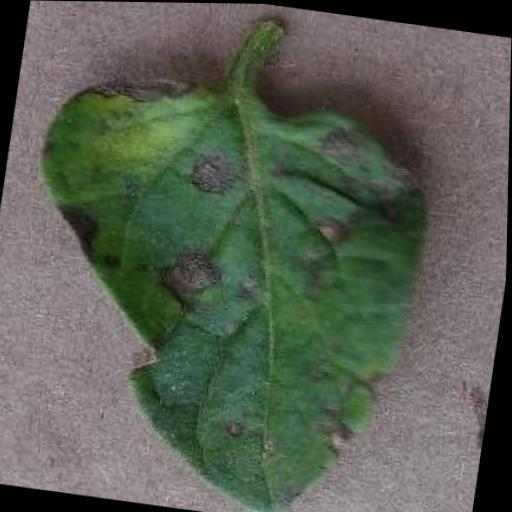Early Blight: (0, 55, 442, 512)
